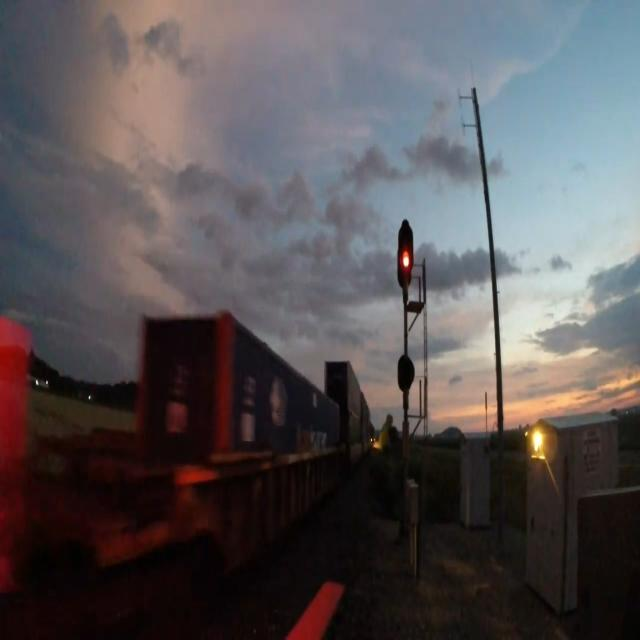container: (128, 295, 342, 472)
flatcar: (60, 434, 353, 597)
